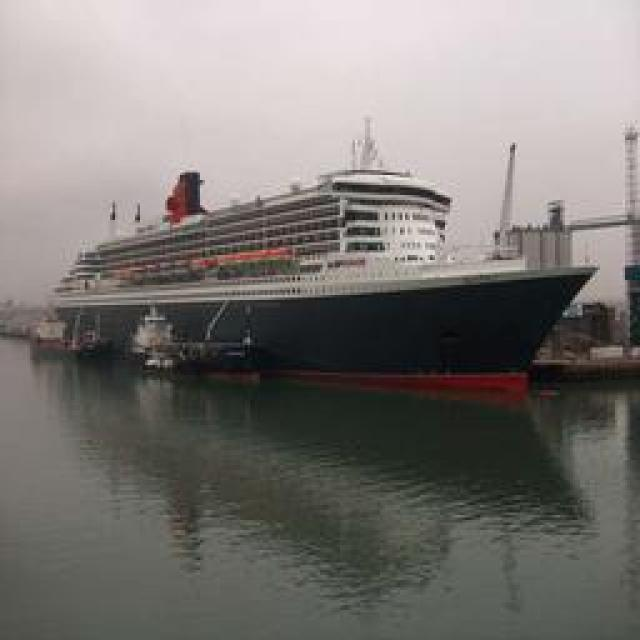CIV_Ship: (28, 141, 600, 371)
